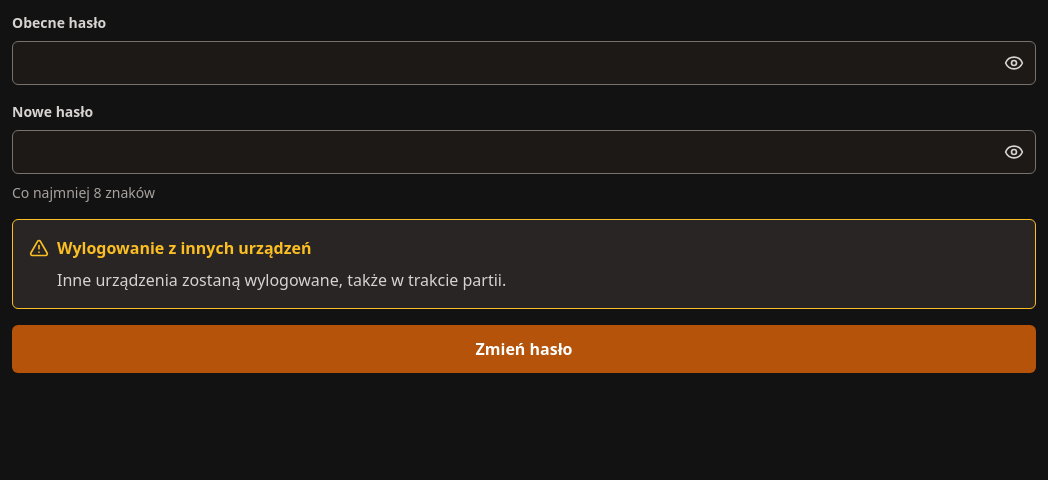
Scenario: ChangePasswordForm › tells how long to wait after a rate limit and keeps the input
In the password field labelled "Obecne hasło": coordinates (524, 63) [12,41,1036,85], type "secret123"
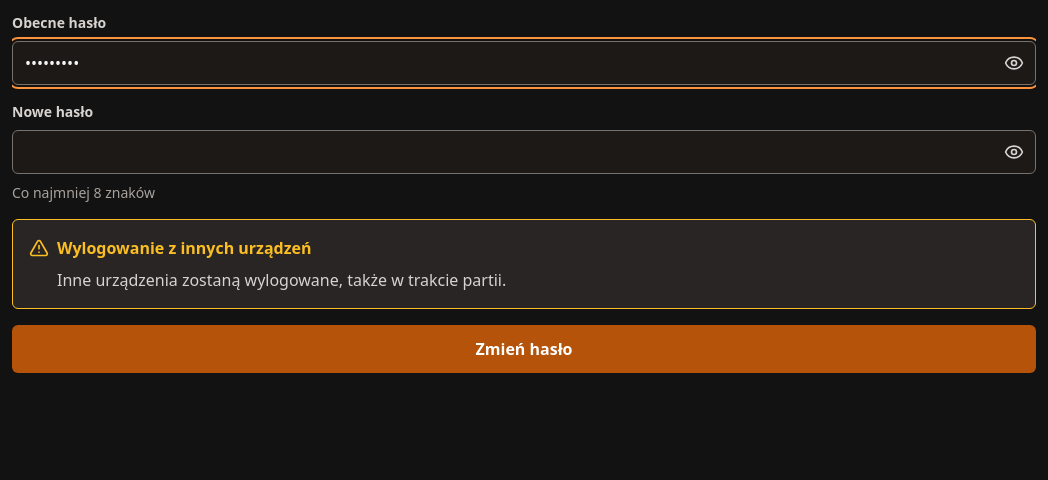
In the password field labelled "Nowe hasło": coordinates (524, 152) [12,130,1036,174], type "brand-new-pass1"
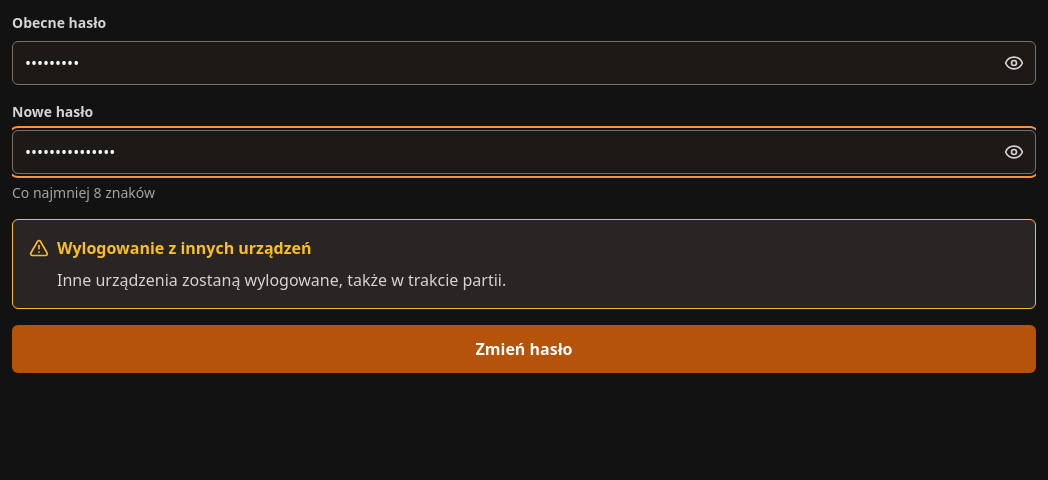
Click the button "Zmień hasło": coordinates (524, 349) [12,325,1036,373]
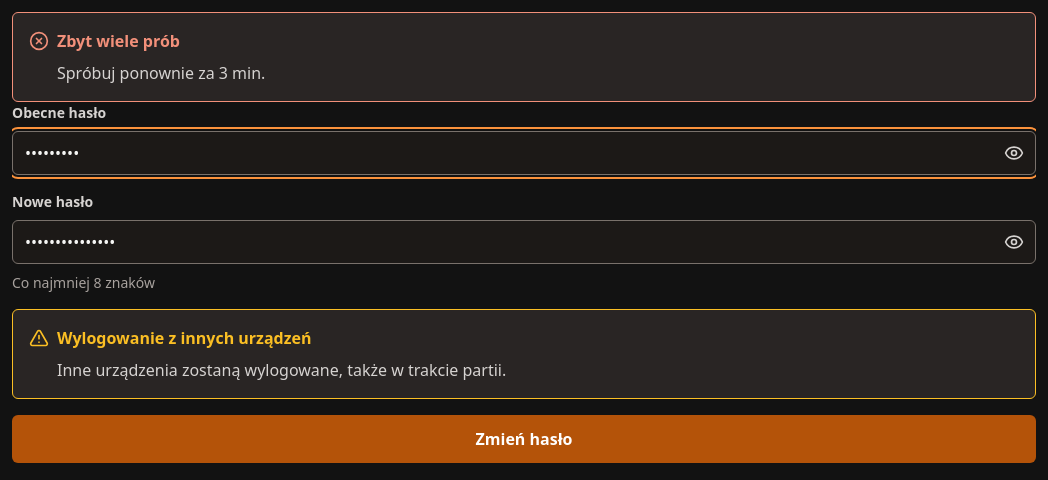
Result: the element with test id "change-password-error" shows "Zbyt wiele prób" at [57,30,180,52]
Result: the element with test id "change-password-error" shows "za 3 min." at [57,62,265,84]
